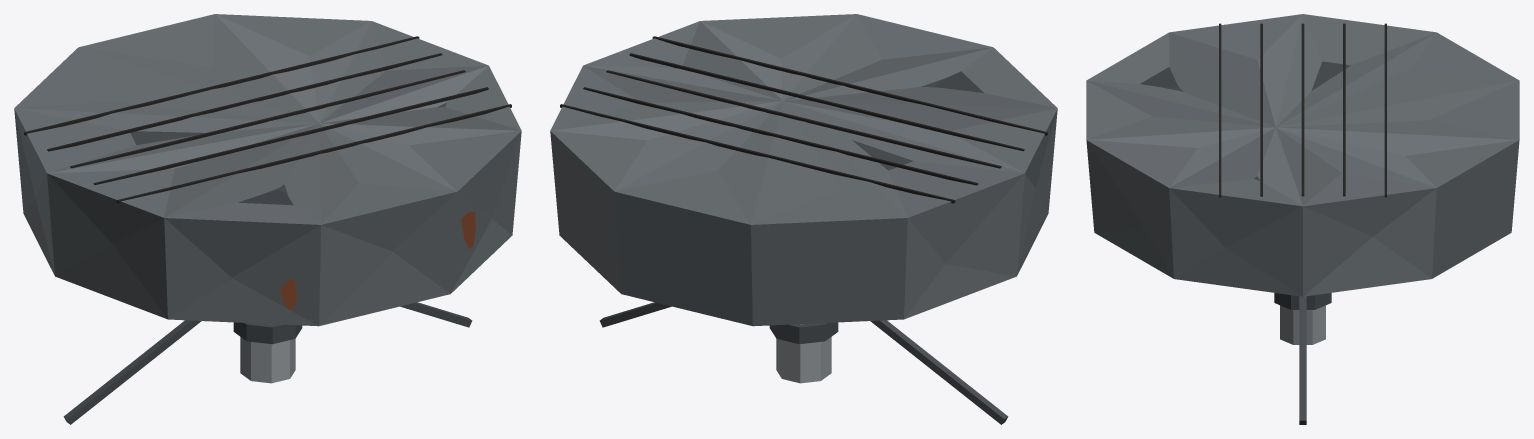
The model's file is rain_collector_kryshnaya_voronka_idle.glb.
The picture shows the model from 3 angles, left to right: view 1: azimuth 30°, elevation 25°; view 2: azimuth 150°, elevation 25°; view 3: azimuth 270°, elevation 25°; orthographic projection. The views are drawn at different scales.
Parts seen in each view (by area): view 1: rain_collector_kryshnaya_voronka_idle; view 2: rain_collector_kryshnaya_voronka_idle; view 3: rain_collector_kryshnaya_voronka_idle.
Boxes of the visible parts, x1,y1,x2,y2 form: rain_collector_kryshnaya_voronka_idle: (14,14,521,424); rain_collector_kryshnaya_voronka_idle: (550,14,1057,424); rain_collector_kryshnaya_voronka_idle: (1086,14,1519,424).
Bounding box in the file's own units: 1.1 × 0.6095 × 1.05.
Materials: 1 (1 with a texture image).
